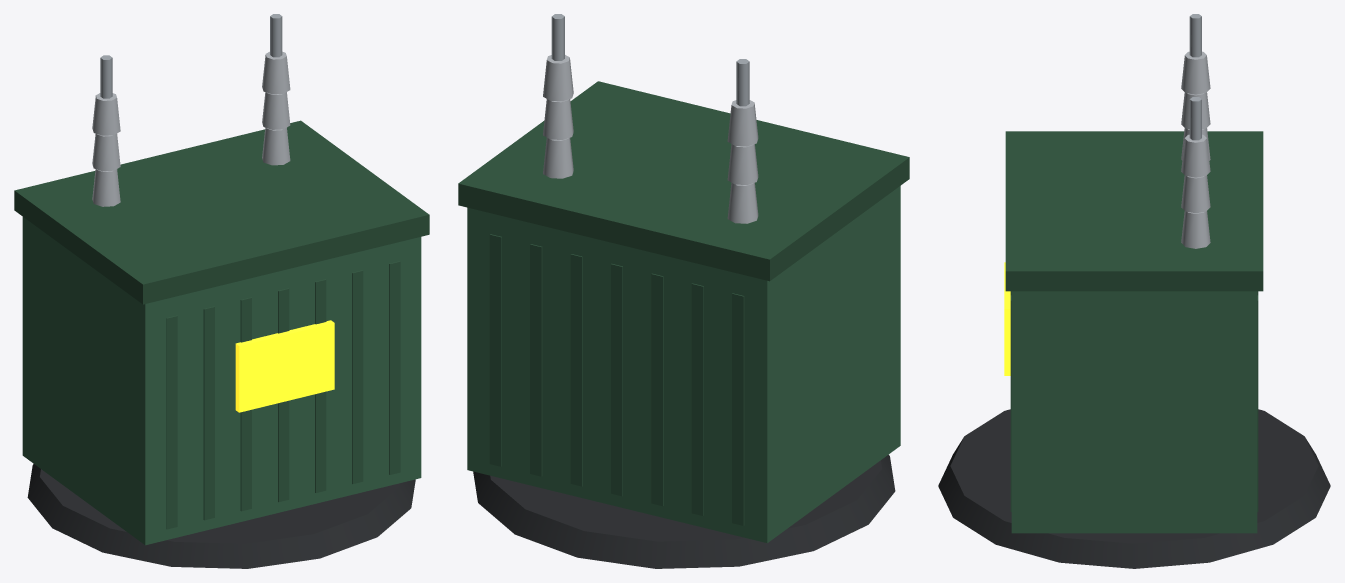
File: transformer-box.glb
3 views of the same model, side by side, from view 1: azimuth 30°, elevation 25°; view 2: azimuth 150°, elevation 25°; view 3: azimuth 270°, elevation 25° (orthographic). The views are drawn at different scales.
Visible parts, largest first — view 1: transformer-box; view 2: transformer-box; view 3: transformer-box.
Part boxes in pixels (left/top/right/bottom): transformer-box: left=14, top=14, right=429, bottom=568; transformer-box: left=458, top=14, right=909, bottom=568; transformer-box: left=938, top=14, right=1330, bottom=568.
Size of the model in its own units: 3.2 by 3.85 by 3.2.
